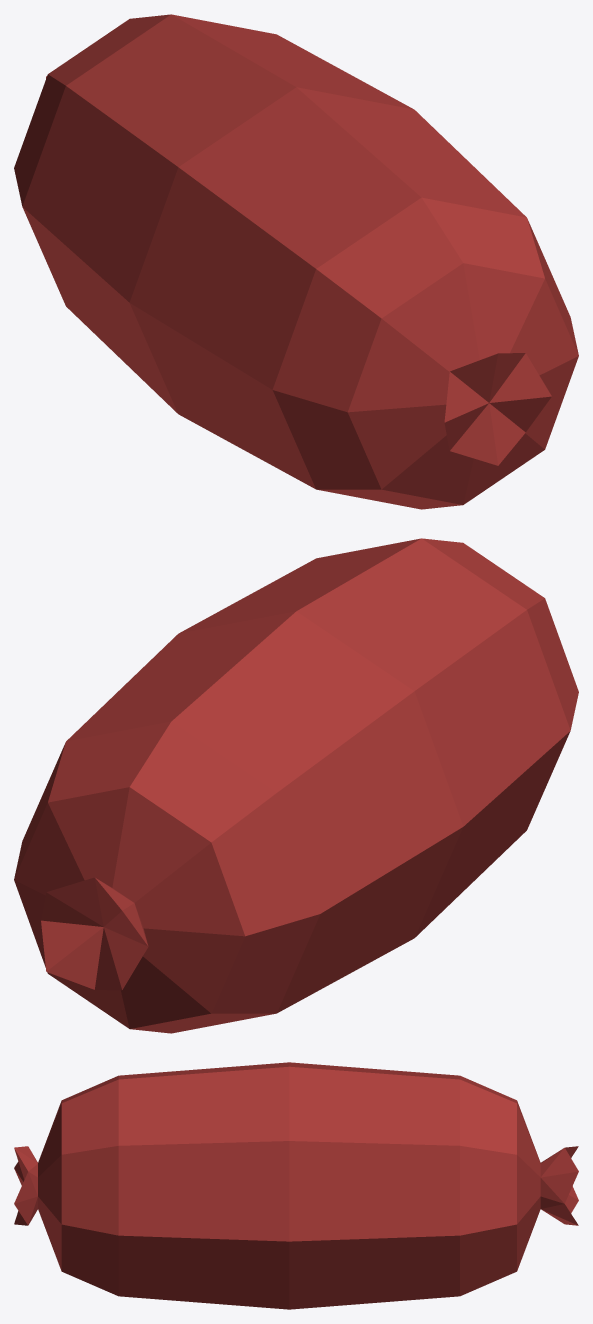
Rendered from SFM_BC_Sausage_001.fbx.
3 renders of one model, top to bottom at view 1: azimuth 30°, elevation 25°; view 2: azimuth 150°, elevation 25°; view 3: azimuth 270°, elevation 25°, orthographic. The views are drawn at different scales.
Visible parts, largest first — view 1: SFM_BC_Sausage_001; view 2: SFM_BC_Sausage_001; view 3: SFM_BC_Sausage_001.
Part boxes in pixels (x1,y1,x2,y2): SFM_BC_Sausage_001: (14, 14, 578, 509); SFM_BC_Sausage_001: (14, 538, 578, 1033); SFM_BC_Sausage_001: (14, 1062, 578, 1309).
Size of the model in its own units: 8.06 by 8.06 by 17.3.
